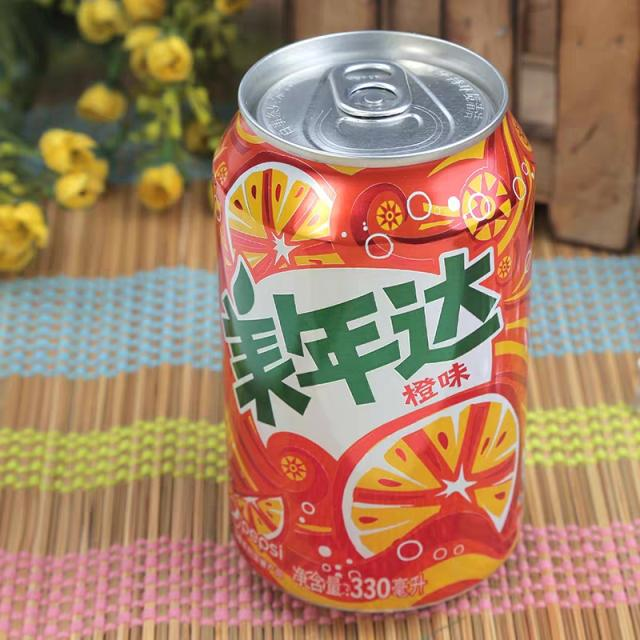can: (208, 26, 541, 620)
